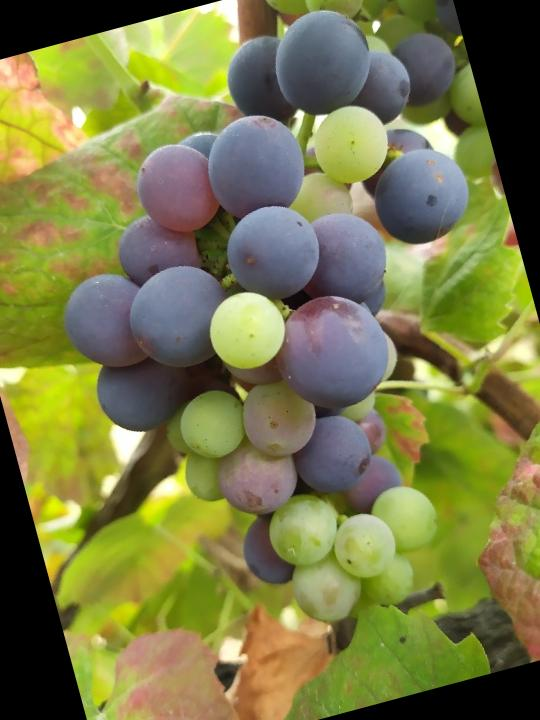grape: (20, 88, 481, 676)
